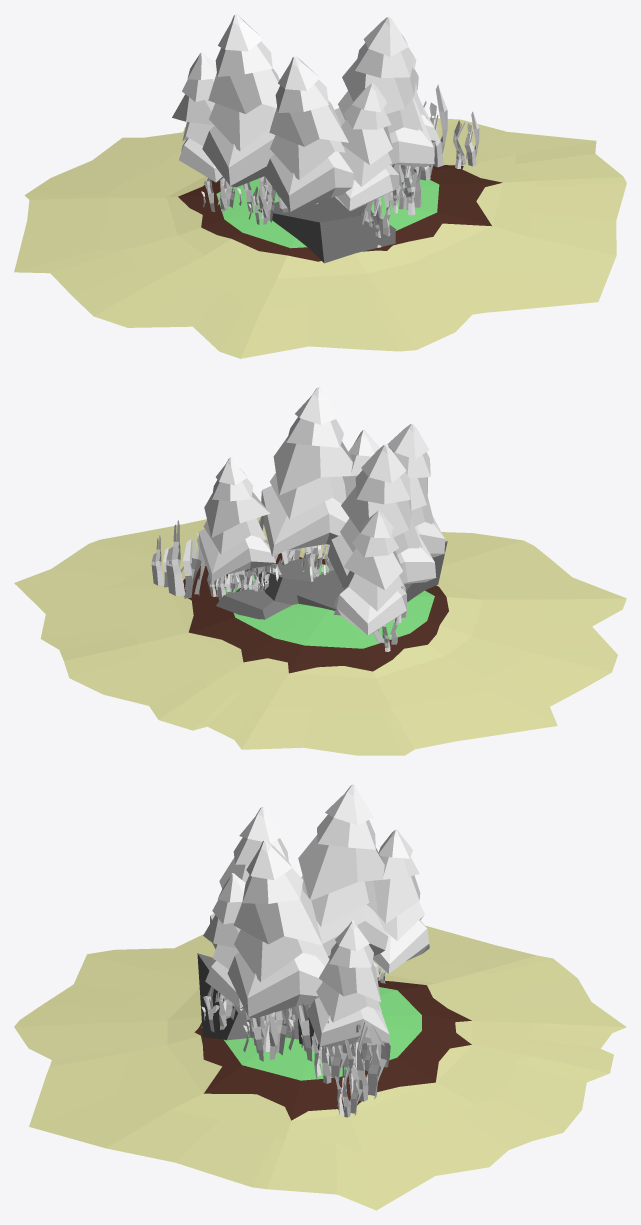
Rendered from other.glb.
The picture shows the model from 3 angles, top to bottom: view 1: azimuth 30°, elevation 25°; view 2: azimuth 150°, elevation 25°; view 3: azimuth 270°, elevation 25°; orthographic projection. The views are drawn at different scales.
Visible parts, largest first — view 1: Cube, Cube.003, Circle.024, Circle.019, Circle.017, Circle.022, Circle.018, Circle.002, Circle, Circle.023, Circle.003, Circle.016 (+22 smaller); view 2: Cube, Circle, Circle.002, Circle.009, Circle.019, Circle.029, LP Grass B.017, Circle.001, Cube.003, Cube.001, Circle.007, Circle.017 (+19 smaller); view 3: Cube, Circle, Circle.017, Circle.002, Circle.009, Circle.001, Cube.003, Circle.018, Circle.019, LP Grass B.017, Circle.007, Circle.027 (+20 smaller).
Part boxes in pixels (bbox=[...]): Cube: bbox=[14, 117, 626, 358]; Cube.003: bbox=[258, 197, 396, 263]; Circle.024: bbox=[263, 151, 353, 211]; Circle.019: bbox=[202, 125, 275, 187]; Circle.017: bbox=[208, 68, 279, 113]; Circle.022: bbox=[269, 100, 348, 146]; Circle.018: bbox=[209, 103, 276, 150]; Circle.002: bbox=[342, 59, 416, 113]; Circle: bbox=[334, 98, 434, 167]; Circle.023: bbox=[270, 135, 345, 179]; Circle.003: bbox=[355, 43, 414, 77]; Circle.016: bbox=[215, 41, 272, 76]; Cube: bbox=[14, 516, 626, 755]; Circle: bbox=[261, 485, 349, 556]; Circle.002: bbox=[273, 436, 352, 495]; Circle.009: bbox=[198, 529, 275, 581]; Circle.019: bbox=[327, 530, 436, 589]; Circle.029: bbox=[333, 586, 407, 635]; LP Grass B.017: bbox=[166, 520, 211, 598]; Circle.001: bbox=[269, 473, 346, 519]; Cube.003: bbox=[297, 541, 447, 610]; Cube.001: bbox=[256, 557, 311, 604]; Circle.007: bbox=[204, 491, 269, 537]; Circle.017: bbox=[341, 486, 411, 537]; Cube: bbox=[14, 925, 626, 1210]; Circle: bbox=[227, 945, 329, 1018]; Circle.017: bbox=[298, 835, 384, 900]; Circle.002: bbox=[233, 889, 322, 945]; Circle.009: bbox=[306, 997, 390, 1047]; Circle.001: bbox=[234, 929, 328, 981]; Cube.003: bbox=[197, 953, 310, 1040]; Circle.018: bbox=[301, 876, 377, 927]; Circle.019: bbox=[316, 904, 388, 957]; LP Grass B.017: bbox=[345, 1021, 386, 1101]; Circle.007: bbox=[319, 960, 380, 1002]; Circle.027: bbox=[373, 875, 420, 923].
Size of what is drawn, in the model's own units: 19.07 by 7.6 by 16.9.
